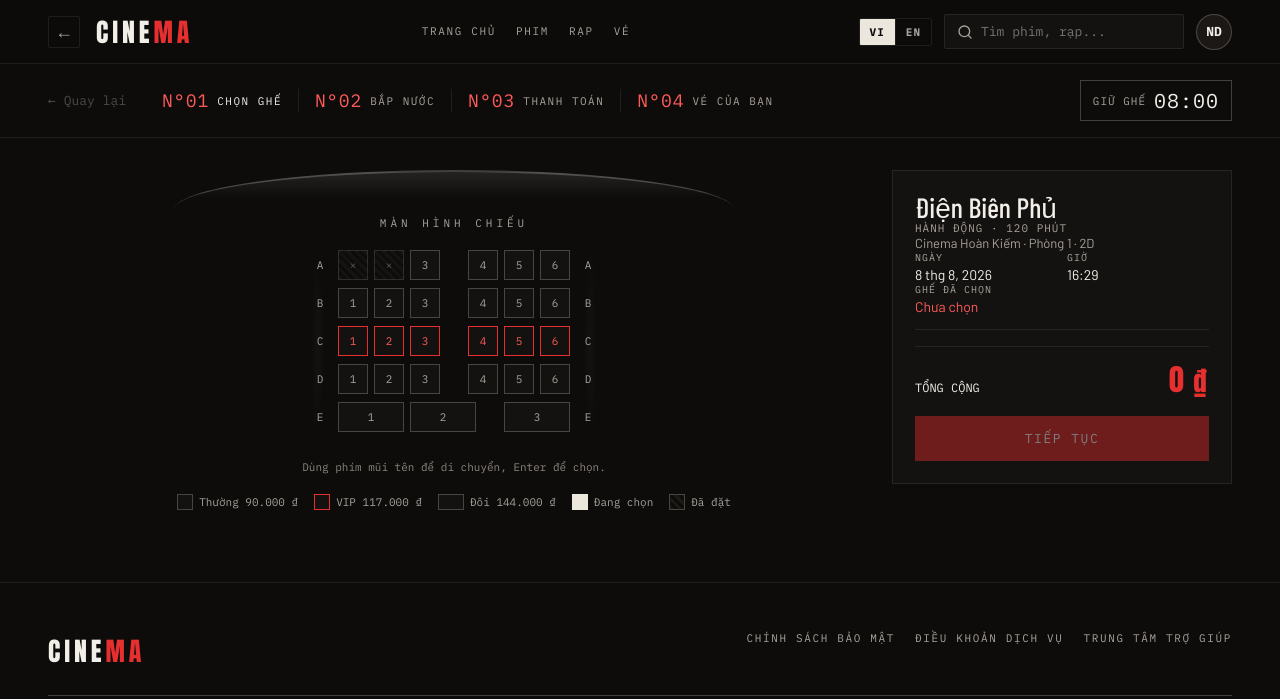
BookingWizard — bước ③ thanh toán › gateway từ chối thì báo lỗi và giữ nguyên bước thanh toán
Expected: the heading "Điện Biên Phủ" is shown, x1=915 y1=190 x2=1057 y2=224
Click the cell named "Ghế B1,". click: (353, 303)
box: x1=338 y1=288 x2=368 y2=318
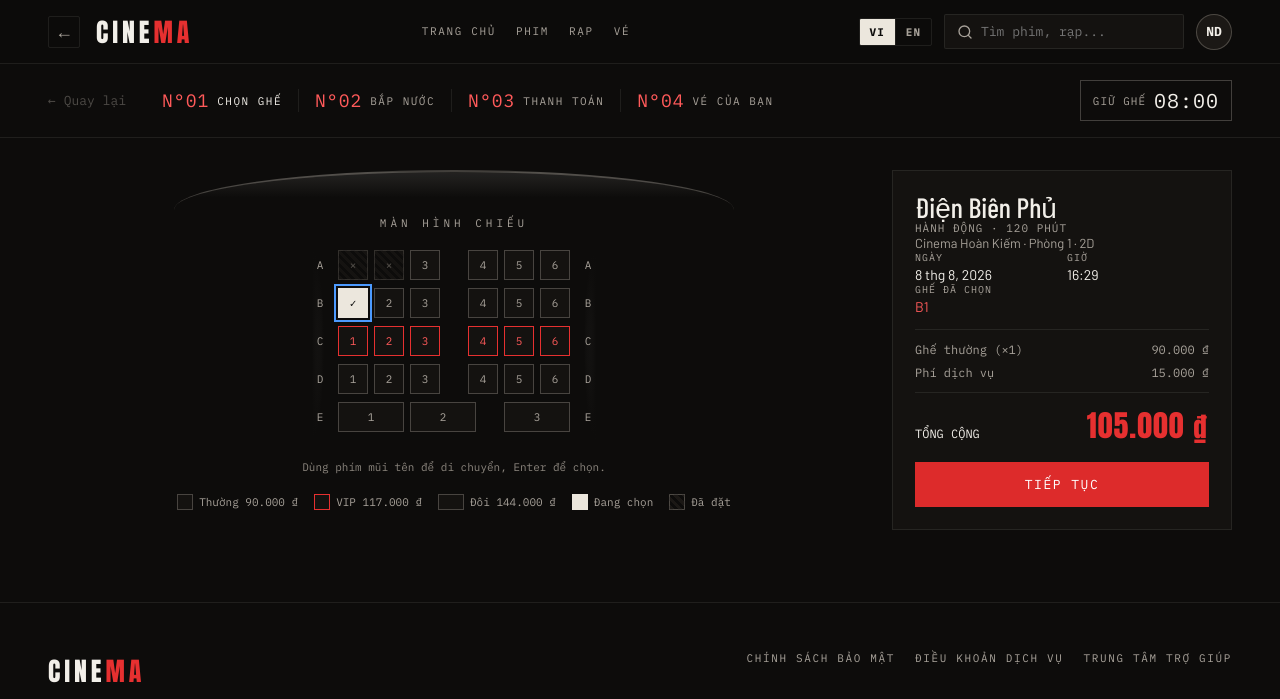
Click the button "Tiếp tục". click: (1062, 484)
box: x1=915 y1=462 x2=1209 y2=507
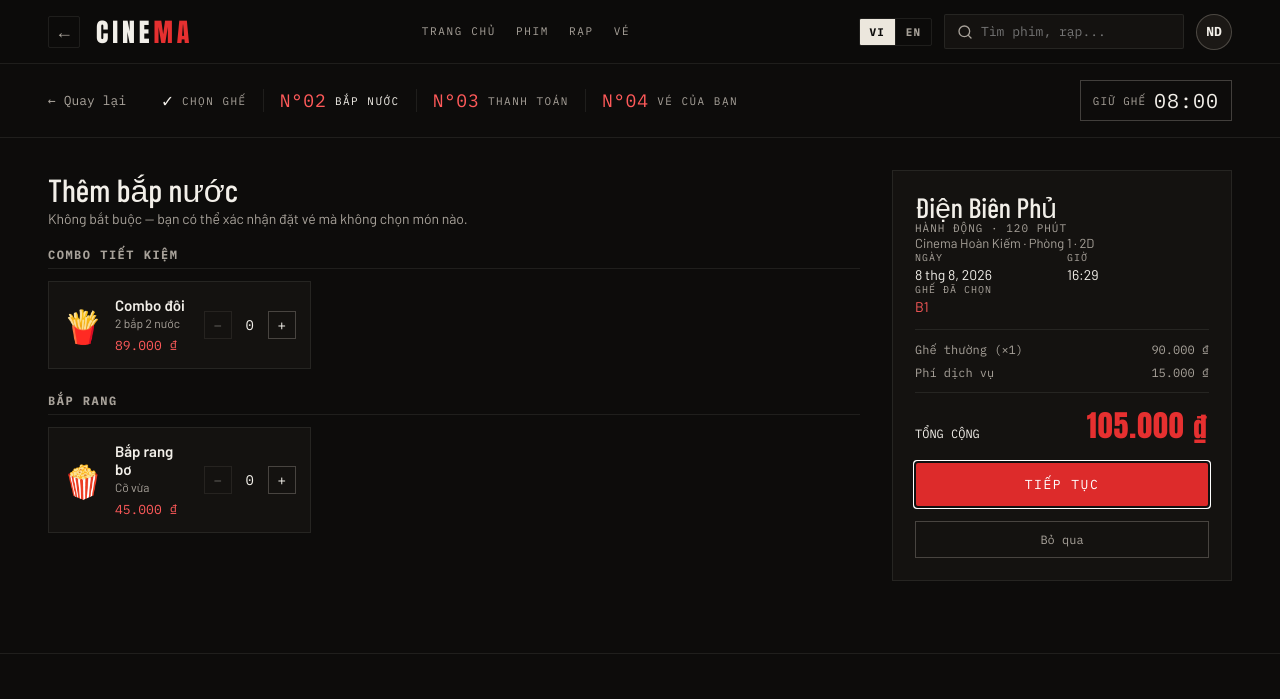
Click the button "Bỏ qua". click: (1062, 540)
box: x1=915 y1=521 x2=1209 y2=558
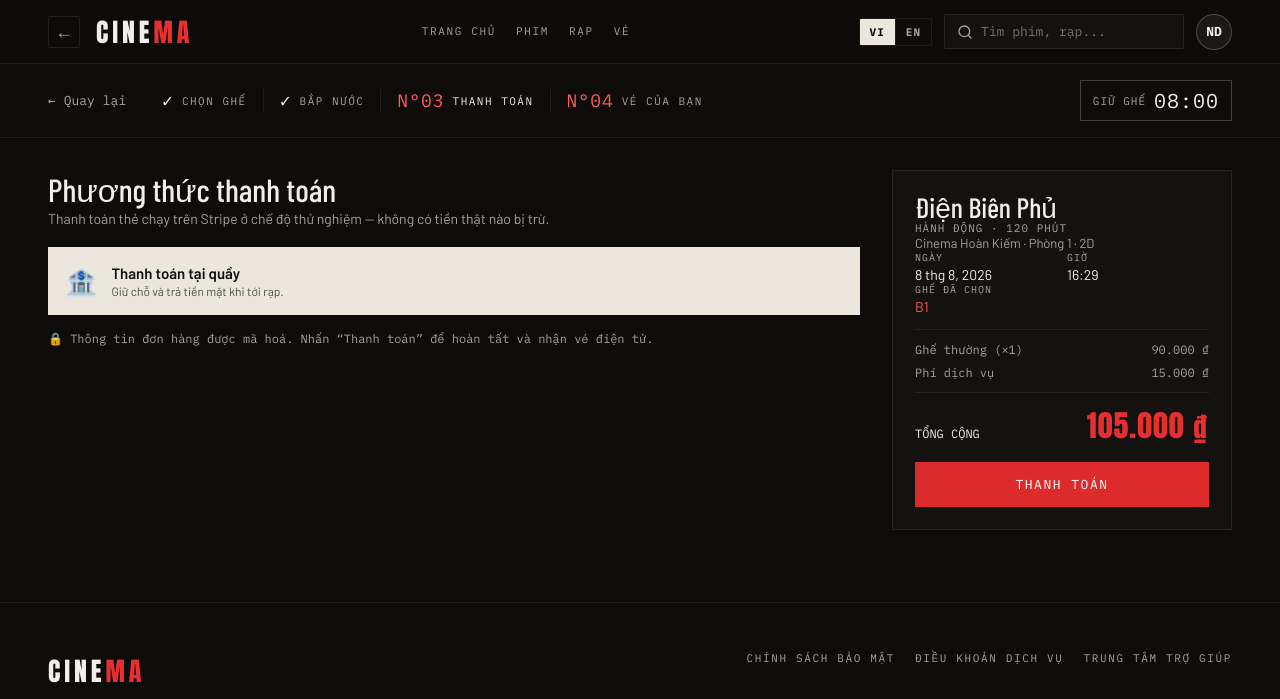
Expected: the heading "Phương thức thanh toán" is shown, x1=48 y1=170 x2=336 y2=208
Click the button "Thanh toán". click: (1062, 484)
box: x1=915 y1=462 x2=1209 y2=507
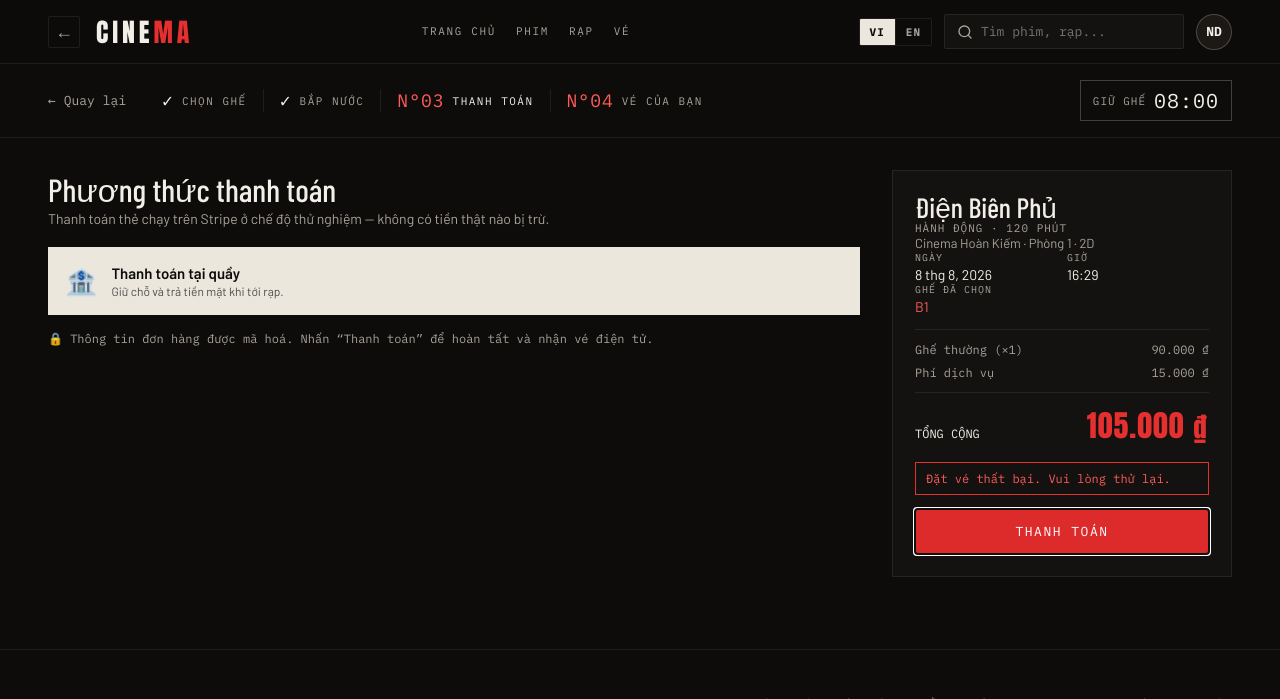
Expected: the heading "Phương thức thanh toán" is shown, x1=48 y1=170 x2=336 y2=208
Expected: the text "Đặt vé thất bại. Vui lòng thử lại." is shown, x1=915 y1=462 x2=1209 y2=495
